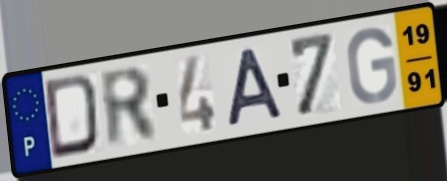4: (177, 52, 219, 136)
7: (286, 32, 339, 121)
A: (225, 44, 287, 130)
D: (42, 71, 102, 163)
G: (344, 24, 400, 107)
R: (96, 64, 162, 152)
